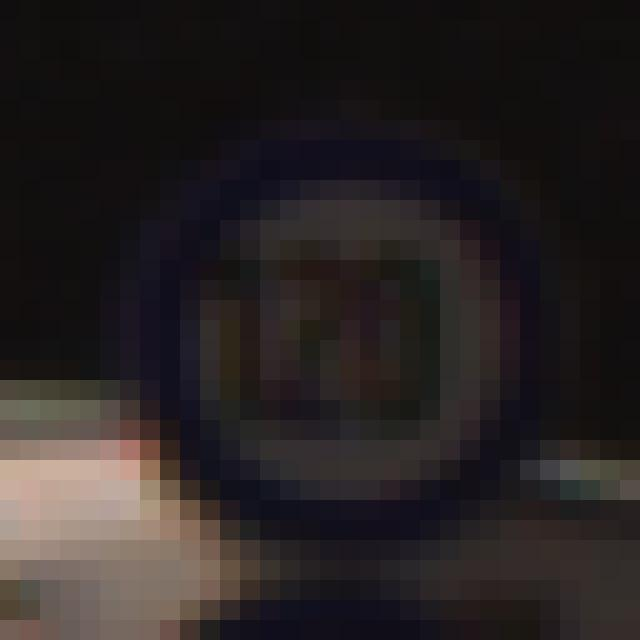SPEED LIMIT 120: (136, 163, 544, 532)
